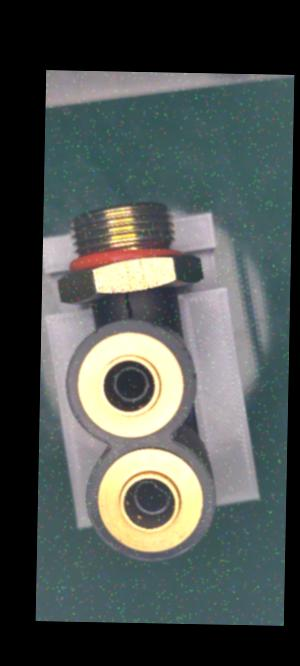craze: (119, 289, 136, 320)
off-centered: (123, 472, 179, 523)
